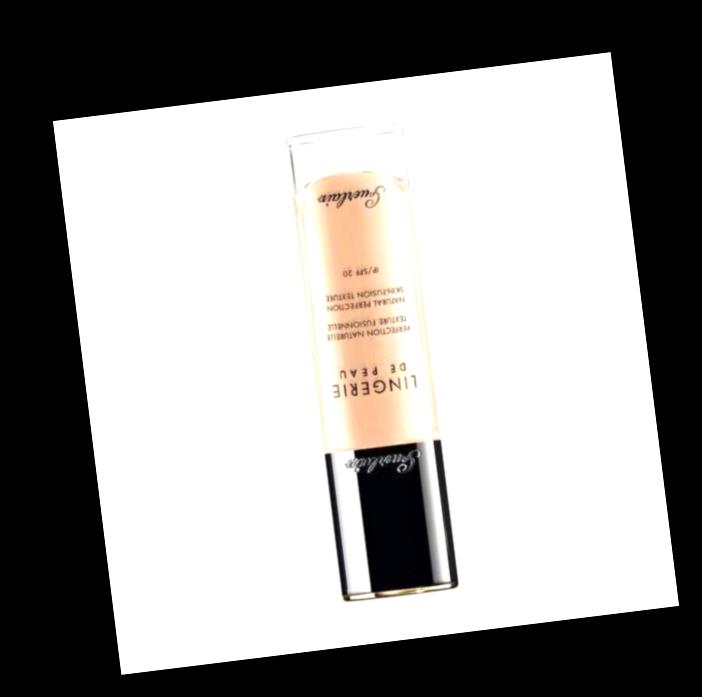cosmetic: (281, 124, 459, 604)
